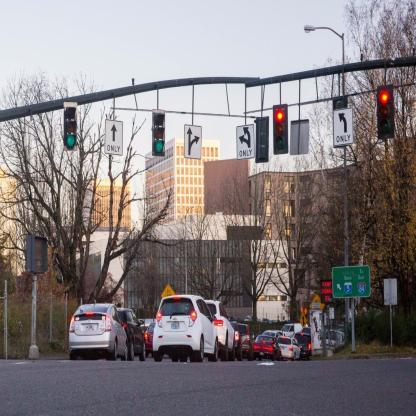Traffic Signal: (271, 107, 289, 153), (377, 92, 396, 134), (62, 105, 80, 148), (151, 110, 166, 152)
